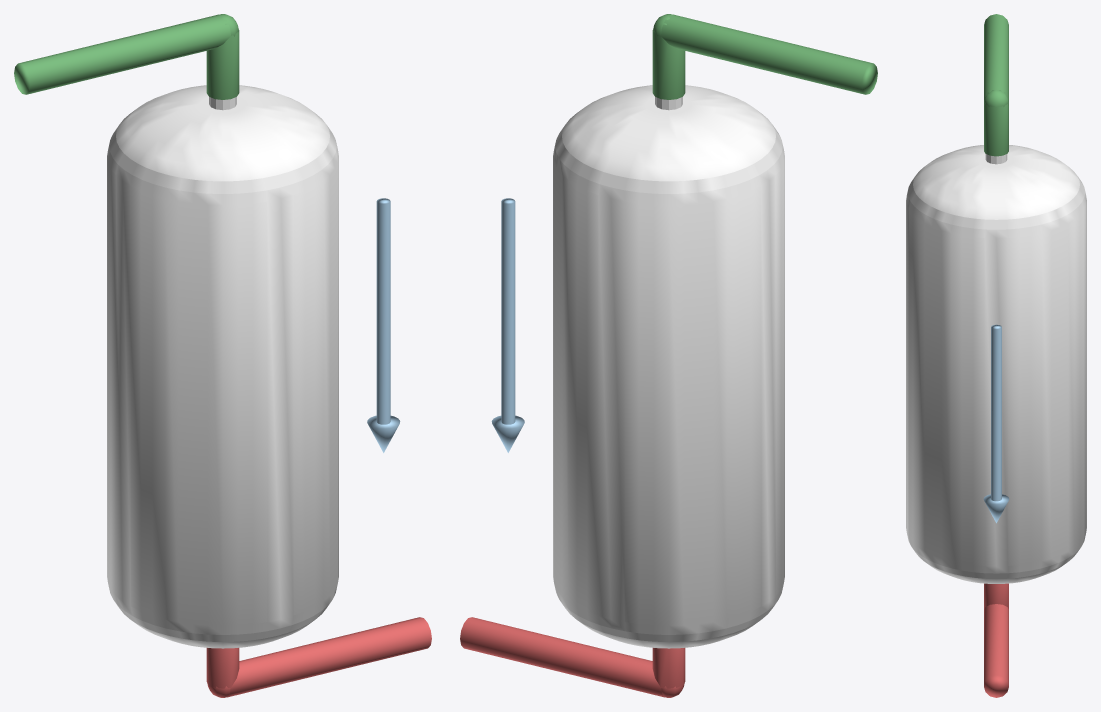
Rendered from packed_bed_reactor.glb.
3 views of the same model, side by side, from view 1: azimuth 30°, elevation 25°; view 2: azimuth 150°, elevation 25°; view 3: azimuth 270°, elevation 25° (orthographic). The views are drawn at different scales.
Visible parts, largest first — view 1: vessel, inlet, outlet, flow; view 2: vessel, inlet, outlet, flow; view 3: vessel, inlet, outlet, flow.
Boxes of the visible parts, x1,y1,x2,y2 form: vessel: (107, 85, 338, 648); inlet: (14, 14, 239, 99); outlet: (206, 617, 431, 697); flow: (367, 198, 400, 452); vessel: (553, 85, 784, 648); inlet: (652, 14, 877, 99); outlet: (460, 617, 685, 697); flow: (491, 198, 524, 452); vessel: (906, 145, 1086, 583); inlet: (984, 14, 1008, 156); outlet: (984, 583, 1008, 697); flow: (983, 324, 1009, 523).
Bounding box in the file's own units: 0.2 × 0.324 × 0.1.
